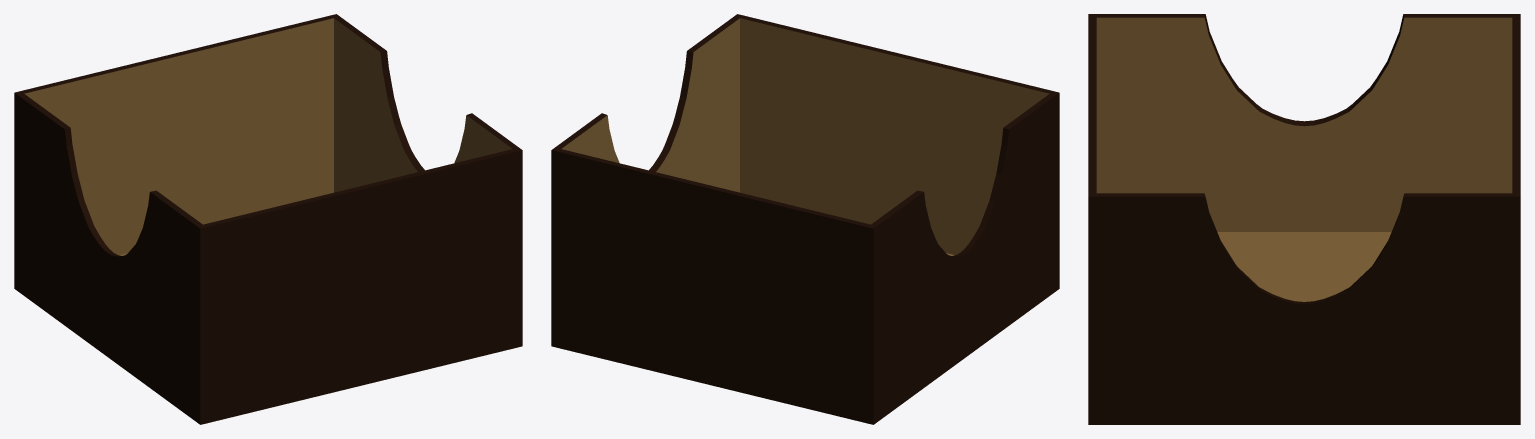
File: Cartón.fbx
3 views of the same model, side by side, from view 1: azimuth 30°, elevation 25°; view 2: azimuth 150°, elevation 25°; view 3: azimuth 270°, elevation 25° (orthographic). The views are drawn at different scales.
Parts seen in each view (by area): view 1: Cube; view 2: Cube; view 3: Cube.
Part boxes in pixels (x1,y1,x2,y2): Cube: [14, 14, 522, 424]; Cube: [551, 14, 1059, 424]; Cube: [1088, 14, 1520, 424].
Bounding box in the file's own units: 374 × 218 × 374.
